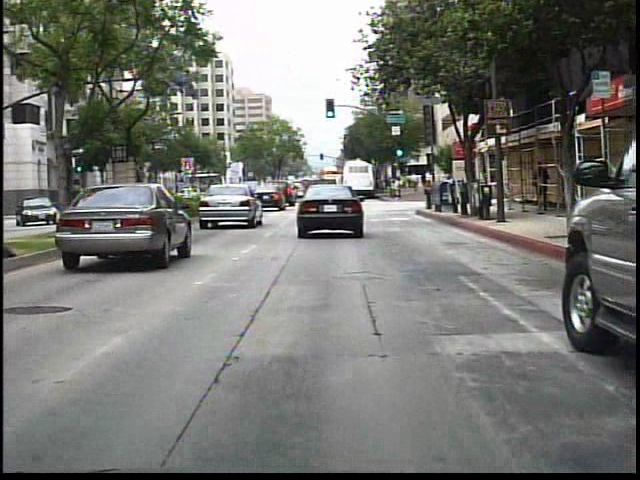person: (529, 155, 548, 218)
